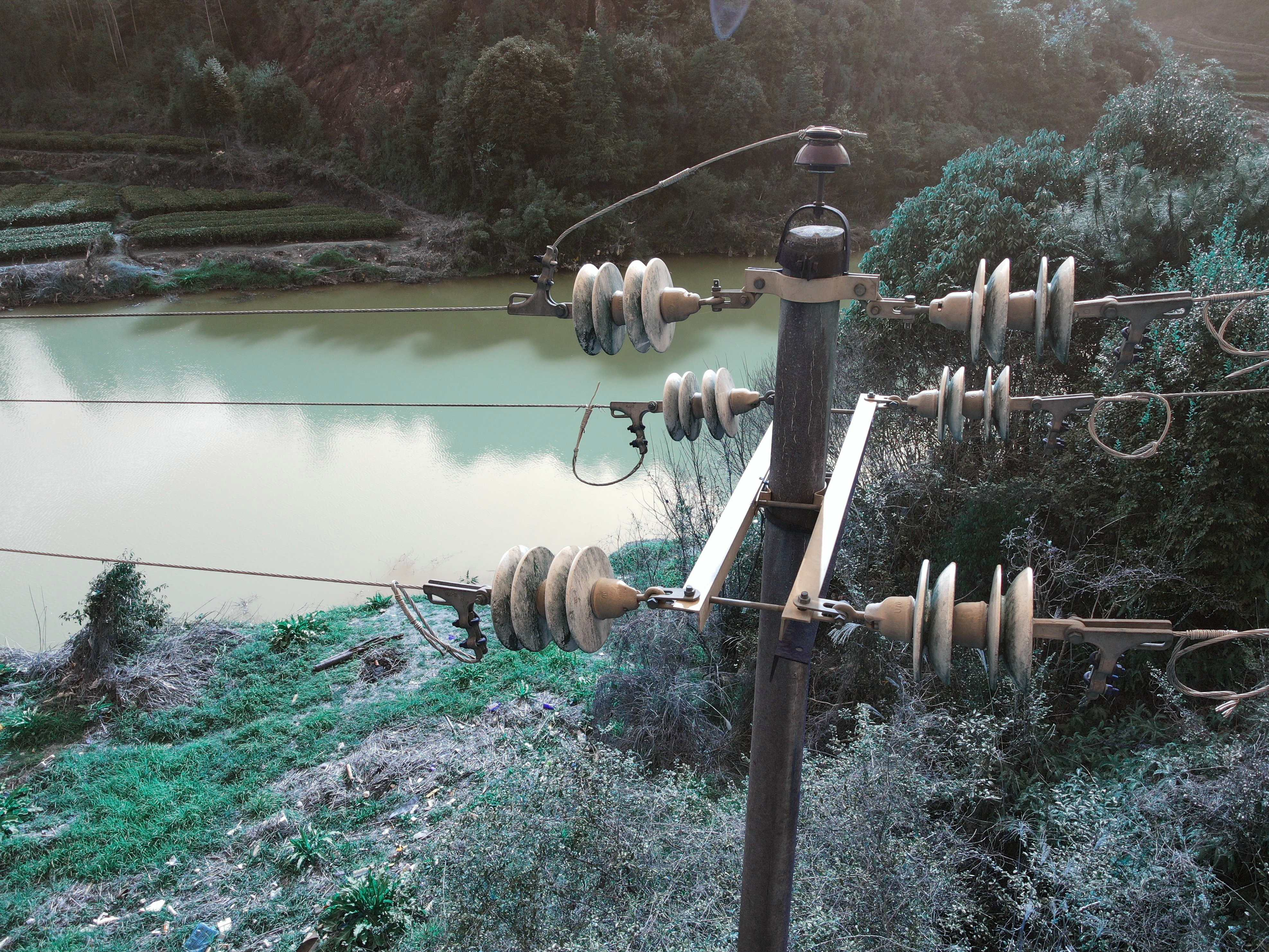severe_soiling_no_discharge_whole: (861, 552, 1043, 694), (928, 248, 1078, 368), (490, 539, 641, 654), (570, 256, 705, 355), (912, 360, 1016, 445), (659, 365, 762, 443)
